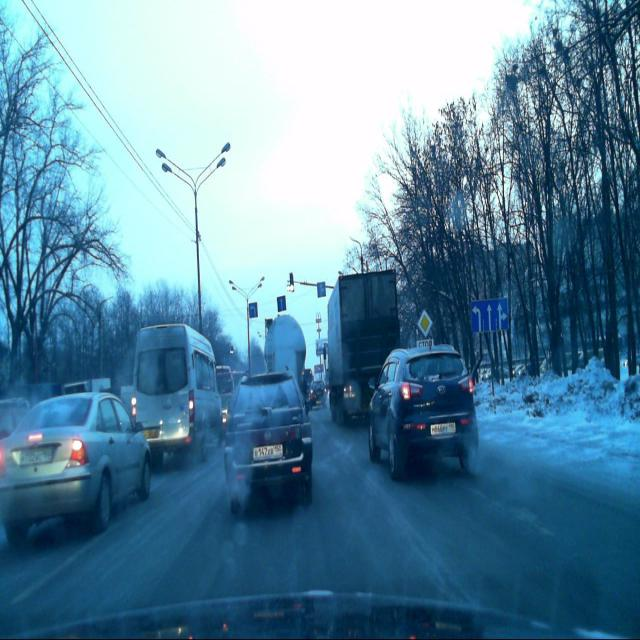object: (490, 335, 496, 398), (417, 339, 434, 348)
road sign: (470, 298, 509, 331), (418, 310, 432, 336), (248, 302, 259, 320), (316, 281, 326, 298), (276, 295, 286, 312)
